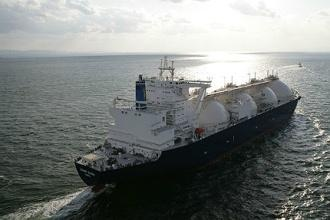Cargoship: (78, 49, 298, 179)
